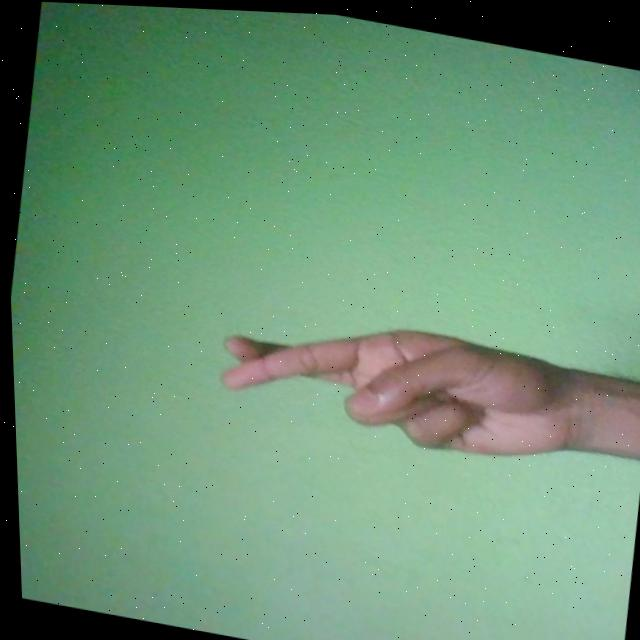Good Luck: (209, 291, 599, 473)
